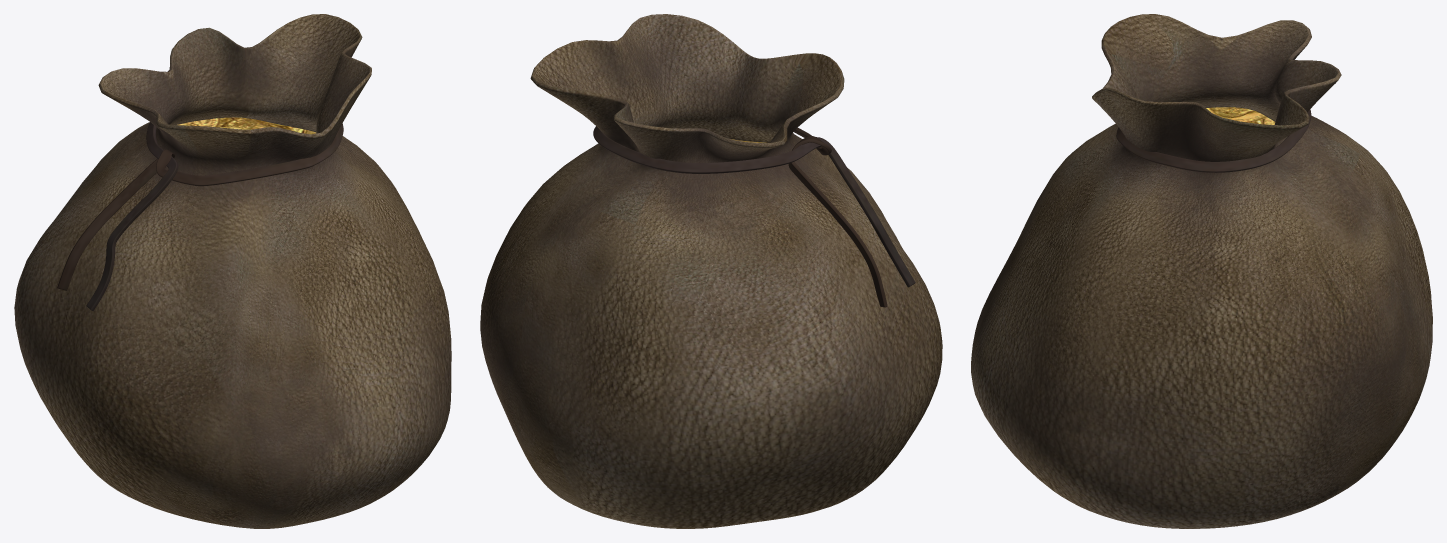
File: goldbag.gltf
The picture shows the model from 3 angles, left to right: view 1: azimuth 30°, elevation 25°; view 2: azimuth 150°, elevation 25°; view 3: azimuth 270°, elevation 25°; orthographic projection. The views are drawn at different scales.
Visible parts, largest first — view 1: 13450_Bag_of_Gold_v1_L3; view 2: 13450_Bag_of_Gold_v1_L3; view 3: 13450_Bag_of_Gold_v1_L3.
Part boxes in pixels (bbox=[...]): 13450_Bag_of_Gold_v1_L3: bbox=[14, 14, 451, 528]; 13450_Bag_of_Gold_v1_L3: bbox=[480, 14, 942, 528]; 13450_Bag_of_Gold_v1_L3: bbox=[971, 14, 1432, 528].
Bounding box in the file's own units: 5.72 × 5.96 × 5.95.
Materials: 1 (1 with a texture image).
